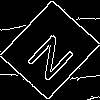N: (25, 25, 83, 84)
